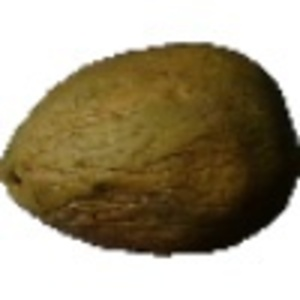mamão: (1, 38, 294, 259)
